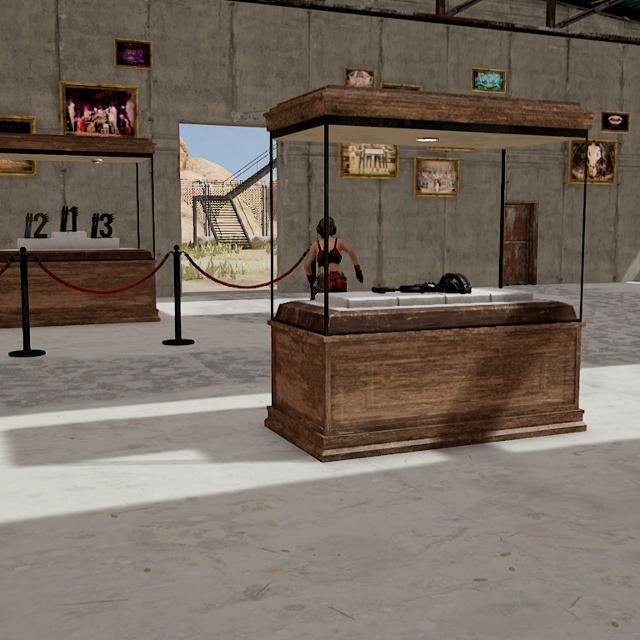head: (314, 214, 340, 240)
people: (301, 214, 365, 300)
